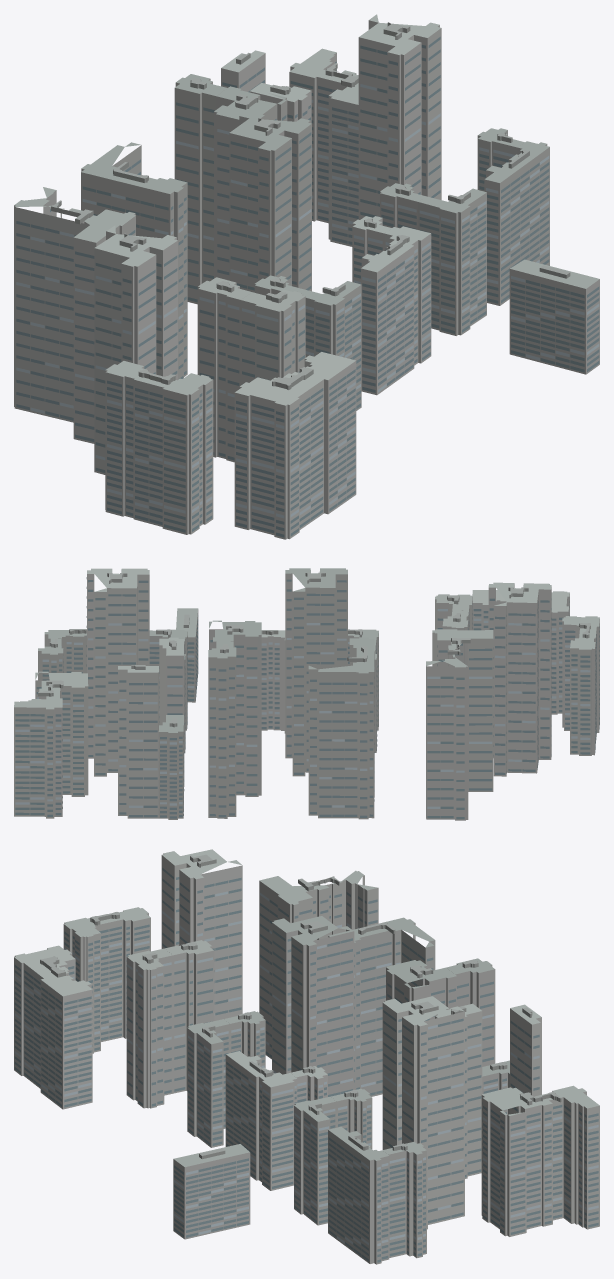
File: apt-a10027205.glb
3 views of the same model, one above another, from view 1: azimuth 30°, elevation 25°; view 2: azimuth 150°, elevation 25°; view 3: azimuth 270°, elevation 25° (orthographic). The views are drawn at different scales.
Parts seen in each view (by area): view 1: apt-a10027205; view 2: apt-a10027205; view 3: apt-a10027205.
Boxes of the visible parts, box(x1,y1,x2,y2) form: apt-a10027205: box(14, 14, 599, 539); apt-a10027205: box(14, 568, 599, 820); apt-a10027205: box(14, 849, 599, 1264).
Bounding box in the file's own units: 325 × 132 × 336.
